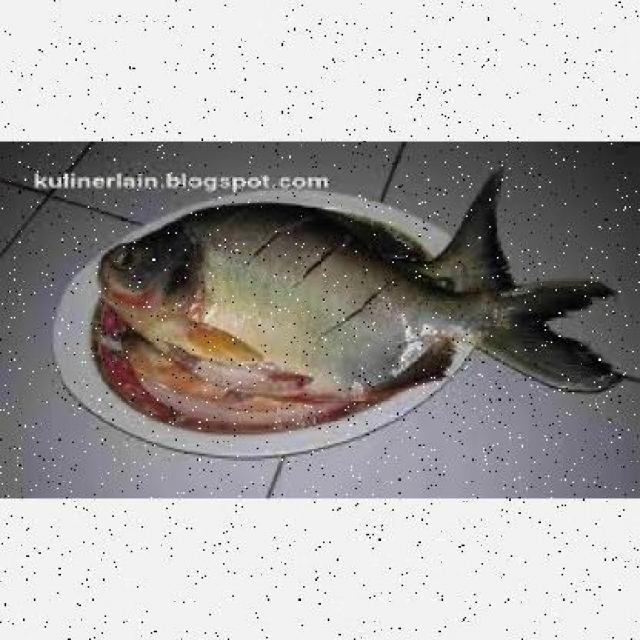ikan-pacu: (92, 208, 588, 394)
